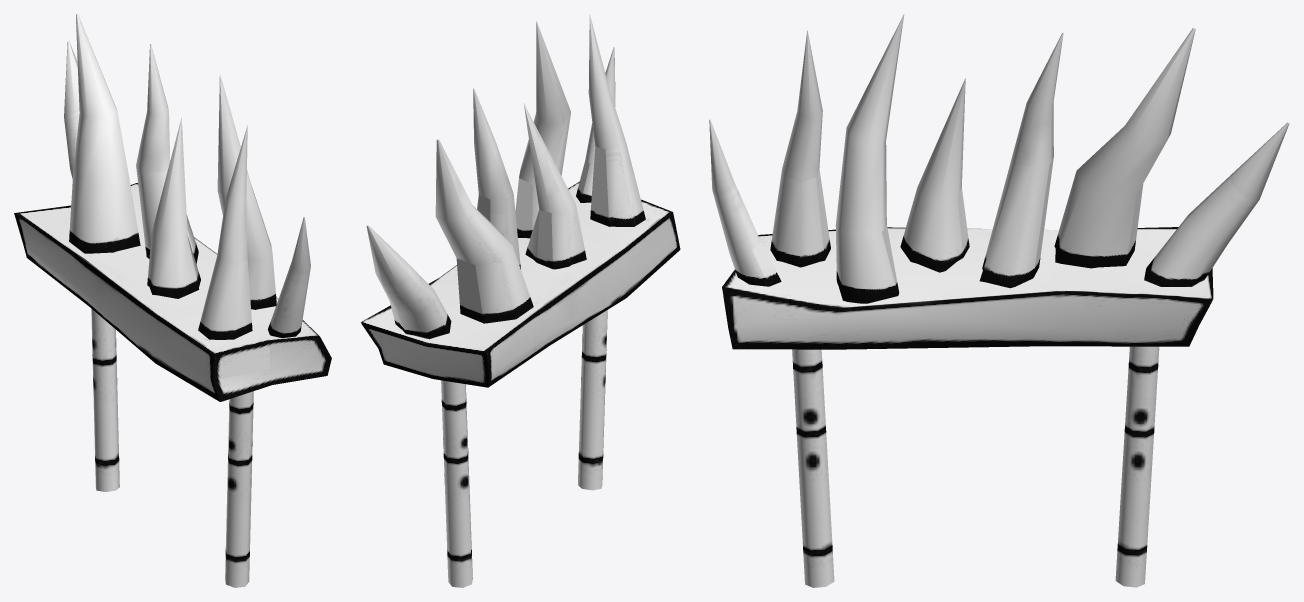
The model's file is spikeTrap_02.fbx.
3 renders of one model, left to right at view 1: azimuth 30°, elevation 25°; view 2: azimuth 150°, elevation 25°; view 3: azimuth 270°, elevation 25°, orthographic. The views are drawn at different scales.
Parts seen in each view (by area): view 1: spikeTrap; view 2: spikeTrap; view 3: spikeTrap.
Boxes of the visible parts, left/top/right/bottom form: spikeTrap: left=14, top=14, right=331, bottom=587; spikeTrap: left=360, top=14, right=680, bottom=587; spikeTrap: left=709, top=14, right=1289, bottom=587.
Size of the model in its own units: 35.45 by 131 by 119.
